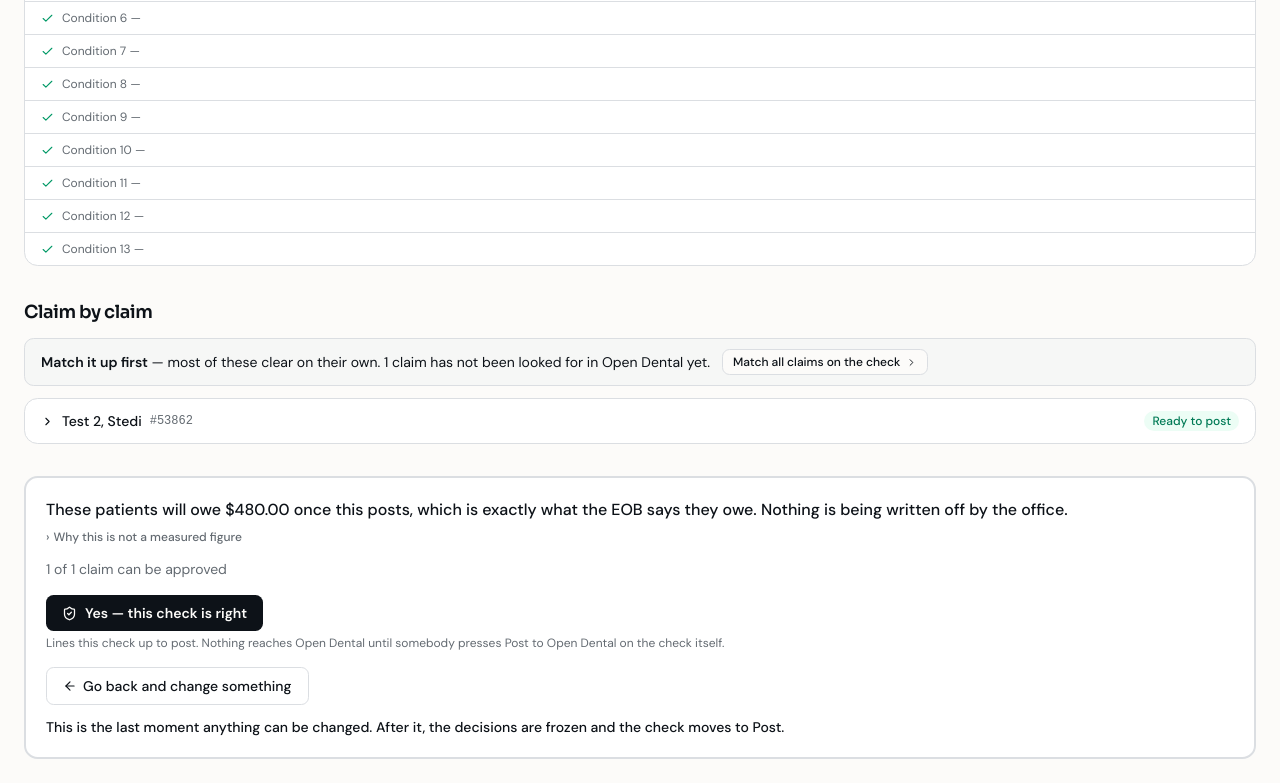
Test case: attribution › prints a colleague's name too — the case the browser could never resolve
(page scrolled)
What coordinates should you click on to do the following:
click the button with test id "approve-button"
I would click on:
 (155, 613)
Its box is left=46, top=595, right=263, bottom=631.
(page scrolled)
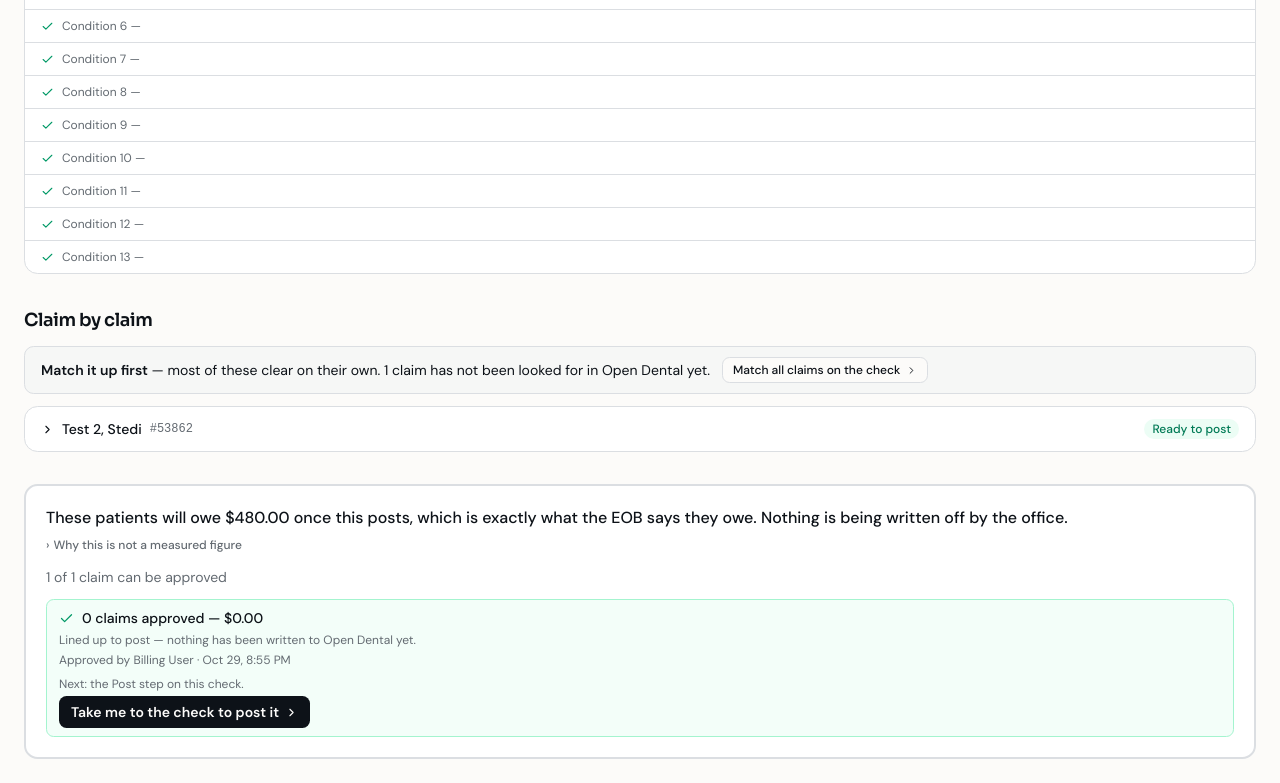
Check: the text with test id "approve-attribution" shows "Approved by Billing User", box left=59, top=652, right=291, bottom=668
